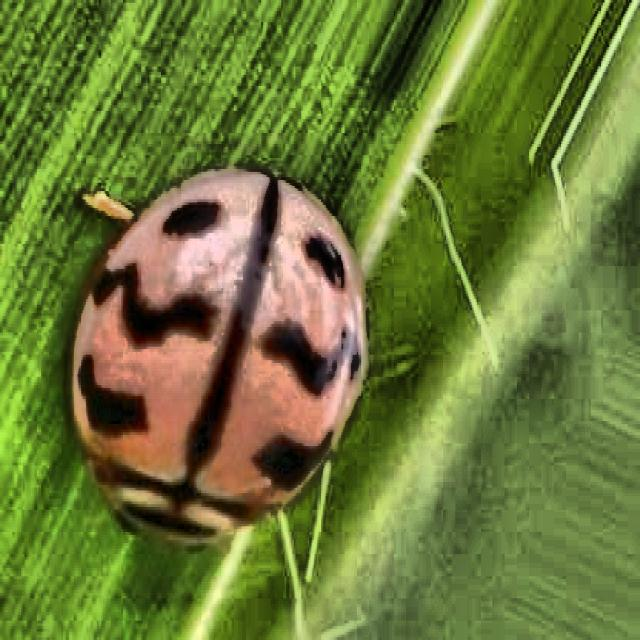Asian-Lady-beetle: (38, 103, 390, 629)
